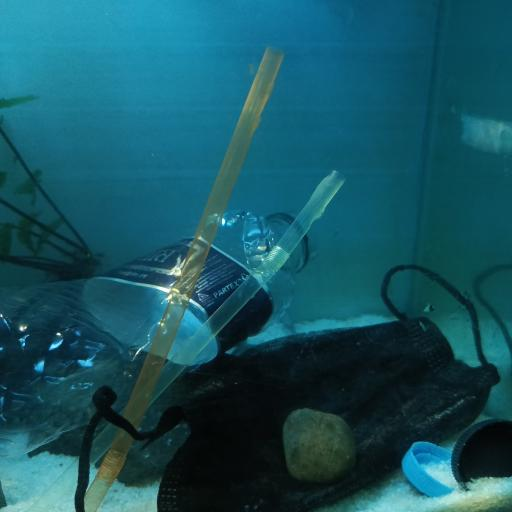bottle_cap: (452, 417, 512, 487), (403, 440, 465, 497)
mask: (69, 261, 512, 511)
plastic_bottle: (0, 204, 306, 464)
plastic_straw: (49, 167, 350, 512), (83, 45, 281, 512)
